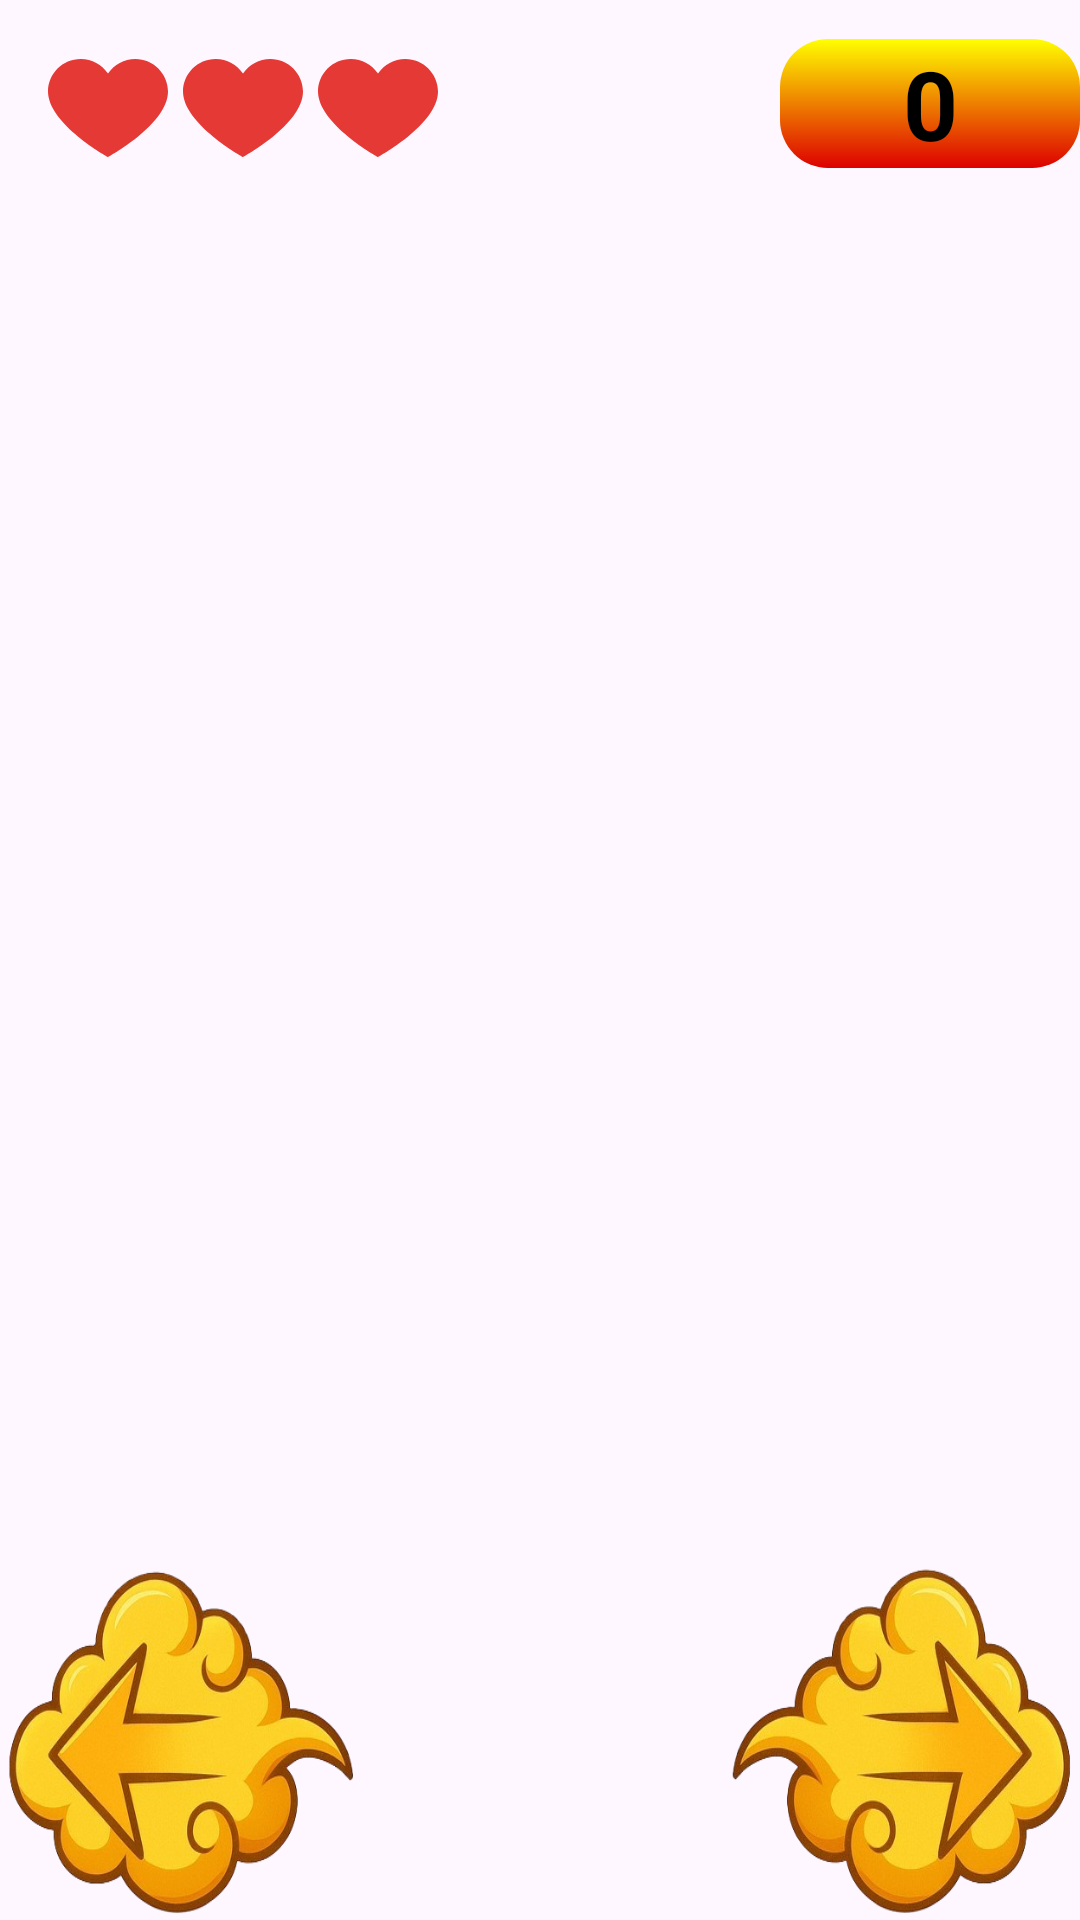

Where icons sit on this 1080x1920 app screen, as (x1, y1, x2, y2):
arrow left: (9, 1571, 353, 1913)
arrow right: (732, 1569, 1070, 1913)
heart: (48, 59, 168, 157), (183, 59, 303, 157), (318, 59, 438, 157)
